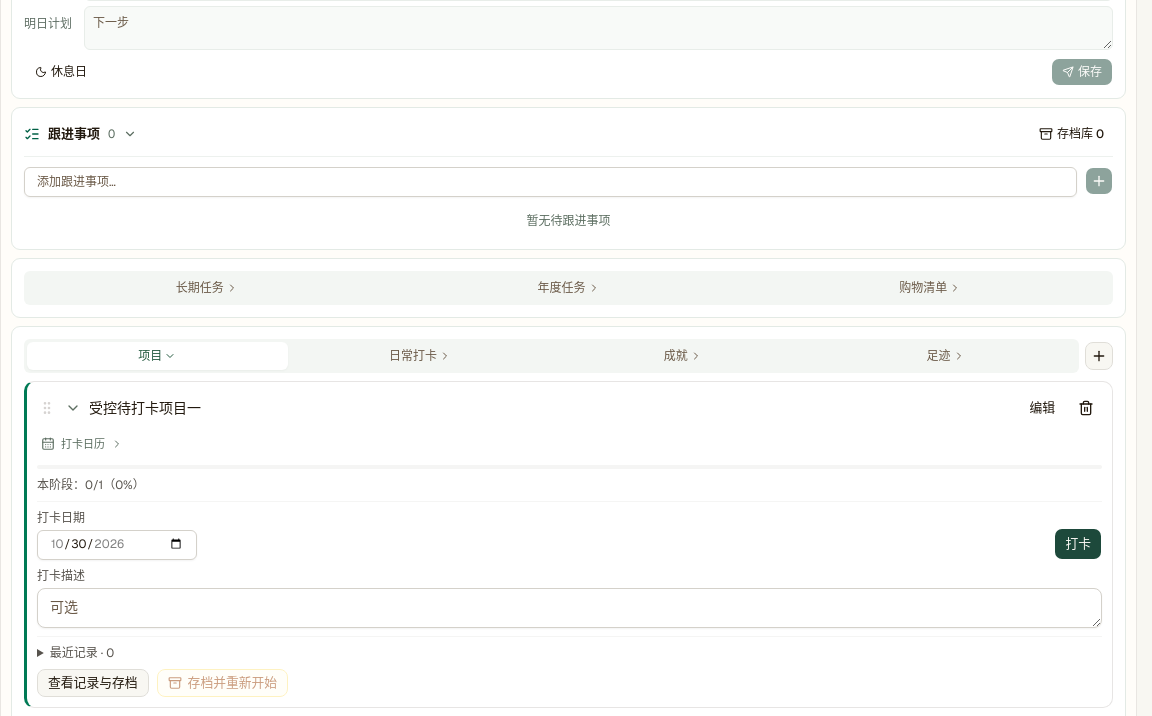
Scenario: TaskDashboard task list sections › opens past daily check-ins from the toolbar without an inline archive
(page scrolled)
Click the button "日常打卡": (420, 356) [290, 342, 551, 370]
(page scrolled)
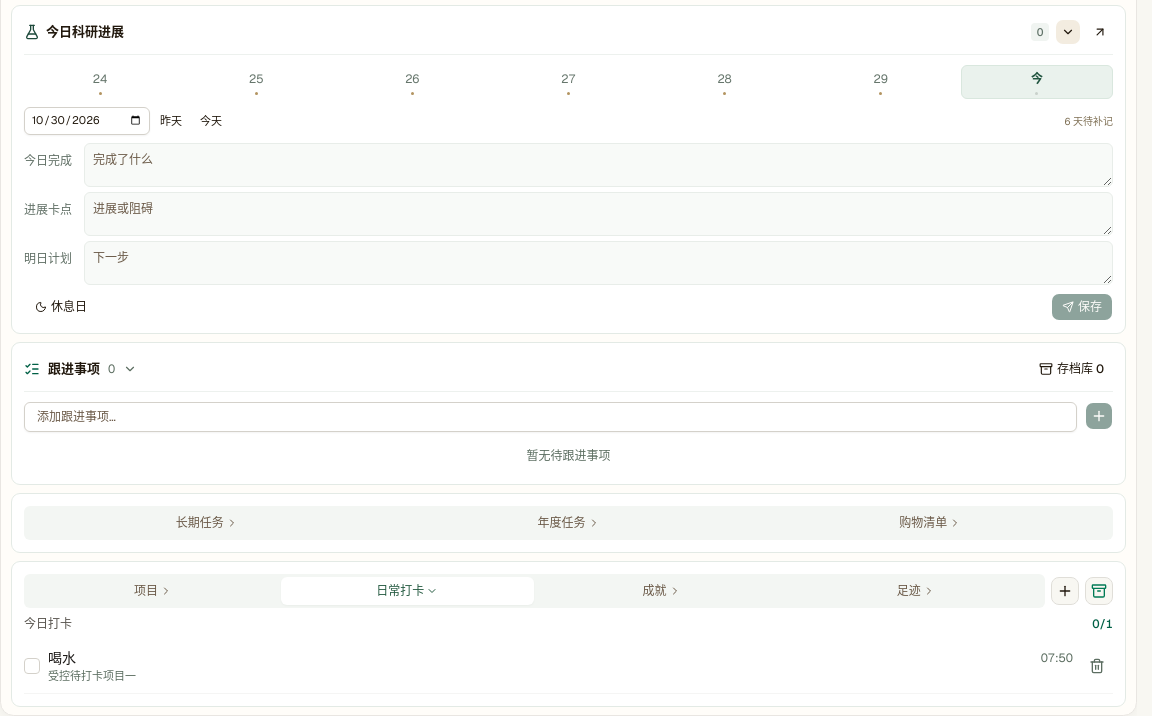
Click the button named "查看日常打卡归档库": (1099, 591) [1085, 577, 1113, 605]
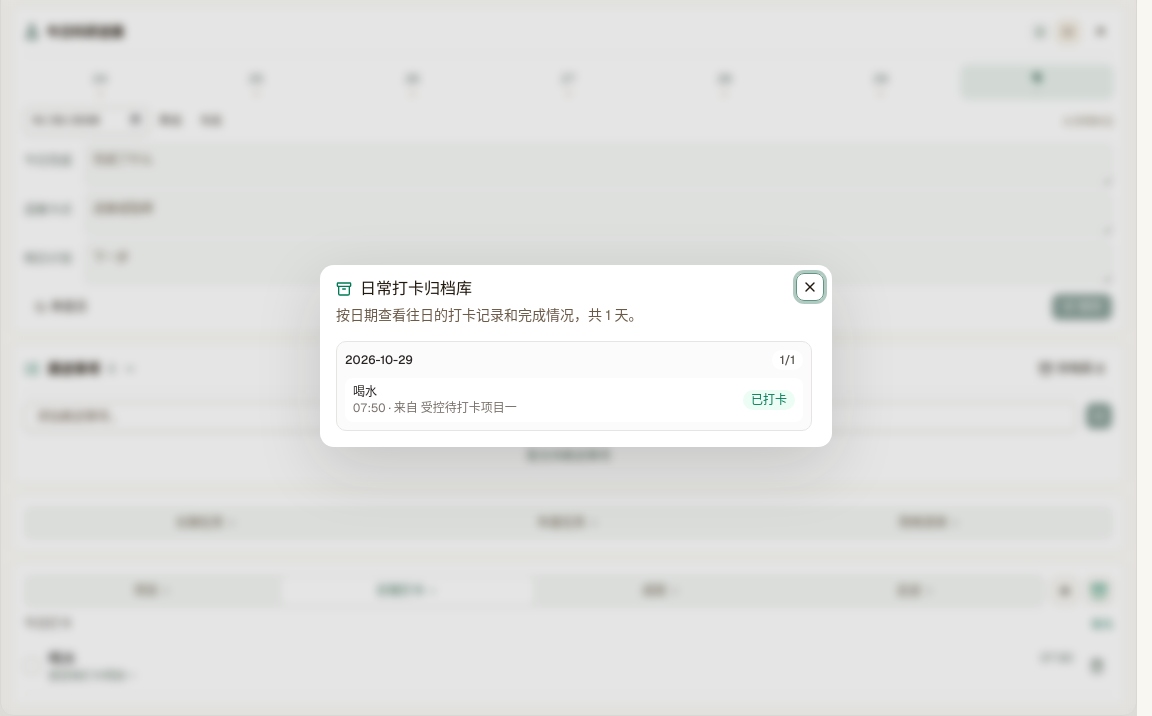
Check: the text "喝水" is shown, box [353, 384, 377, 400]
Check: the text "已打卡" is shown, box [743, 390, 795, 410]
Check: the text "1/1" is shown, box [772, 350, 803, 370]
